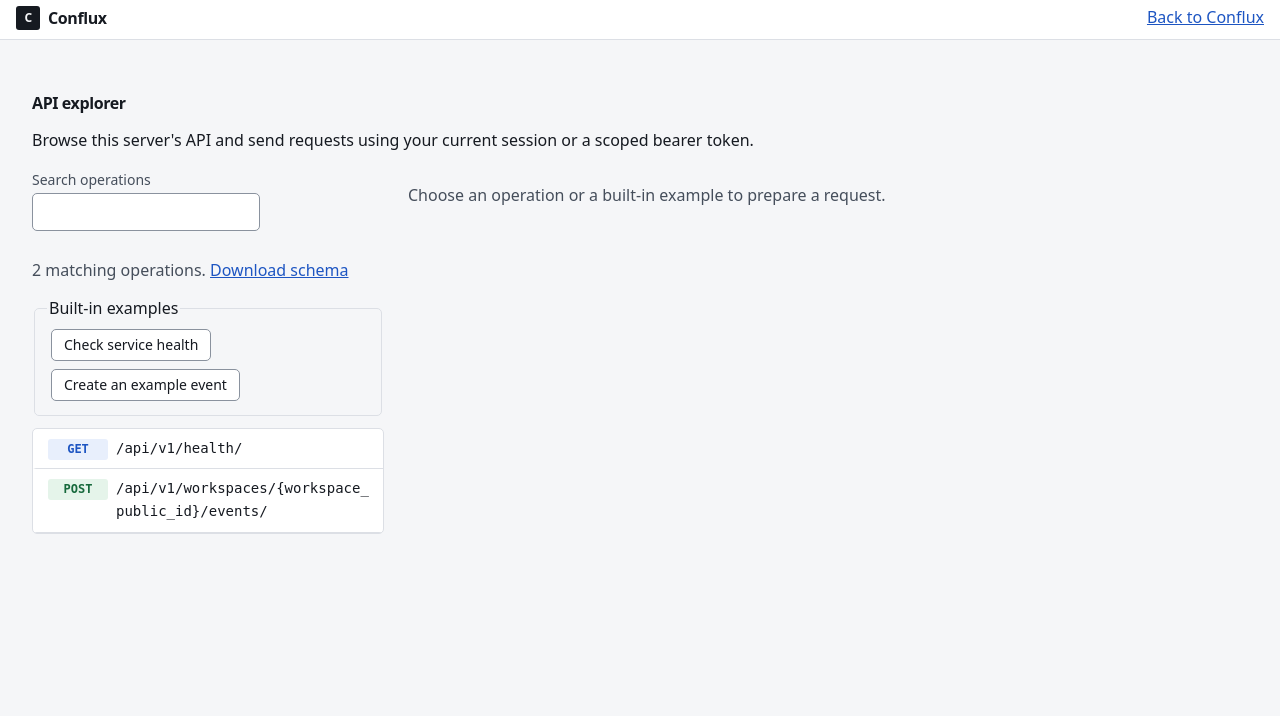
Test: shows method chips, auth state and pretty-prints JSON responses
Expected: the text "POST" is shown, [48,479,108,500]
Click the button "Check service health": click(131, 345) [51,329,211,361]
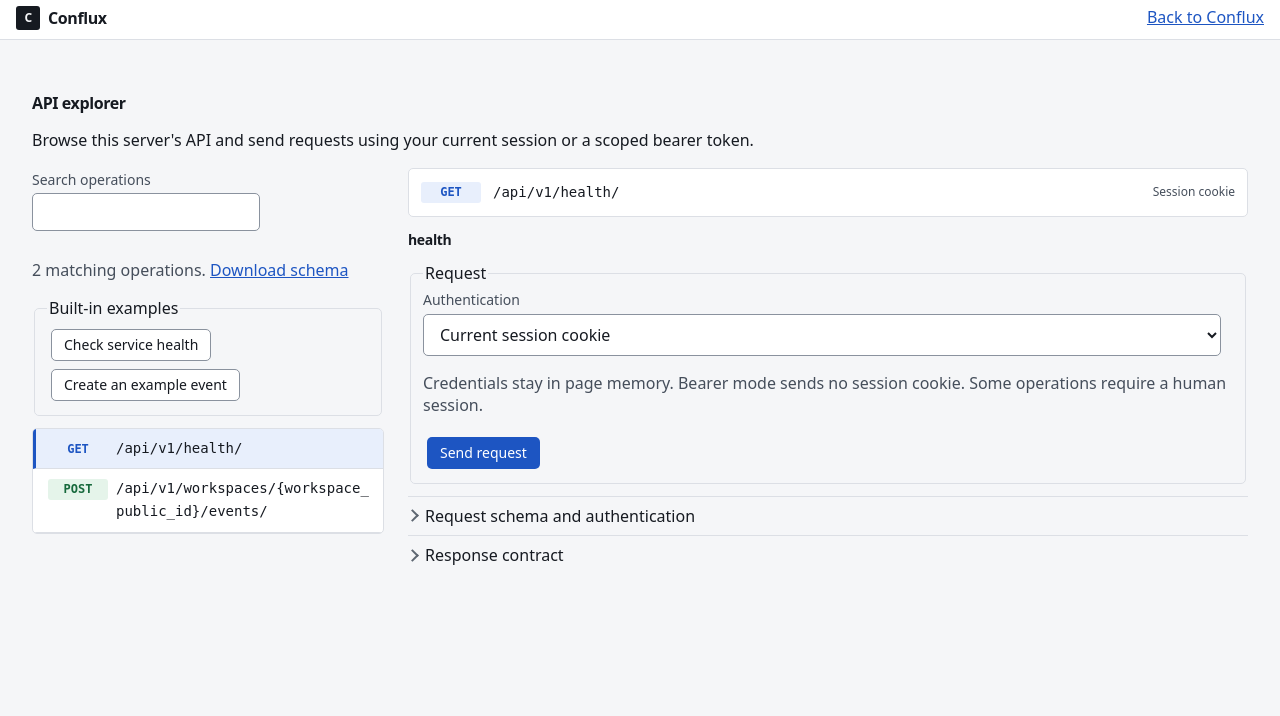
Expected: the element with class "cx-api-endpoint" shows "Session cookie", [1153,183,1235,200]
Click the button "Send request": click(483, 453) [427,437,540,469]
(page scrolled)
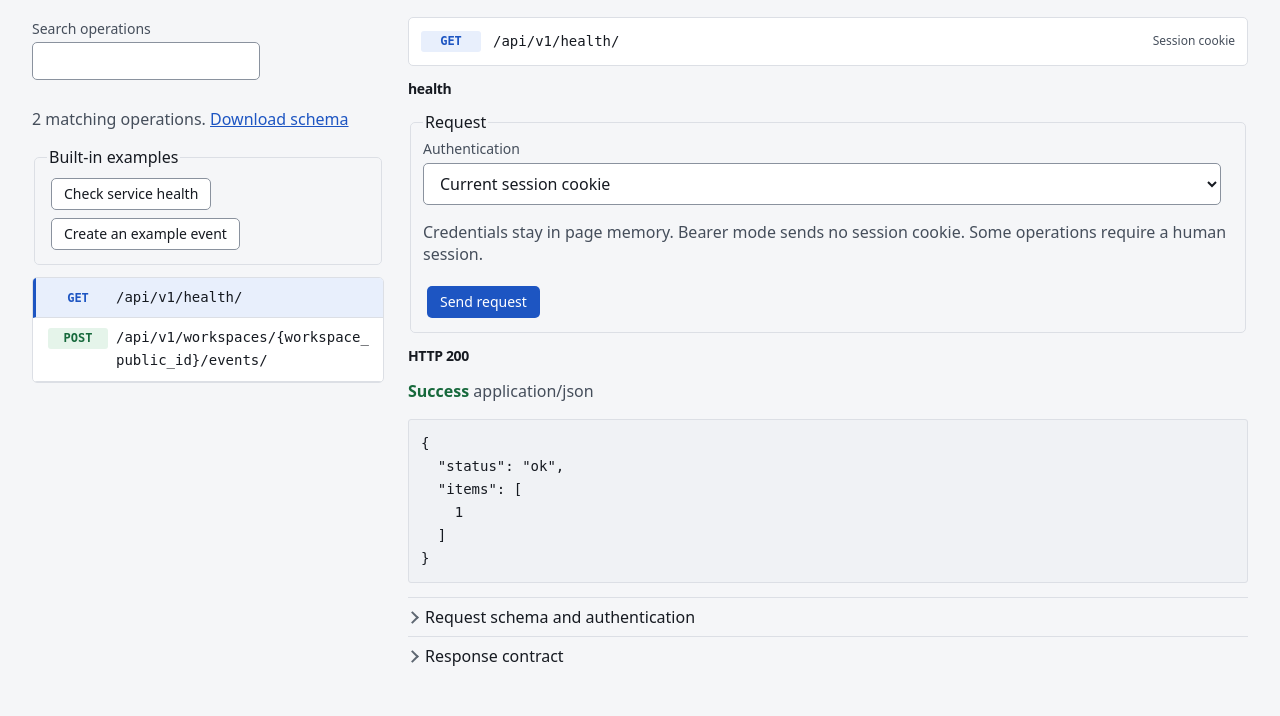
Expected: the text with class "cx-api-status" reads "Success", [408,380,469,402]
